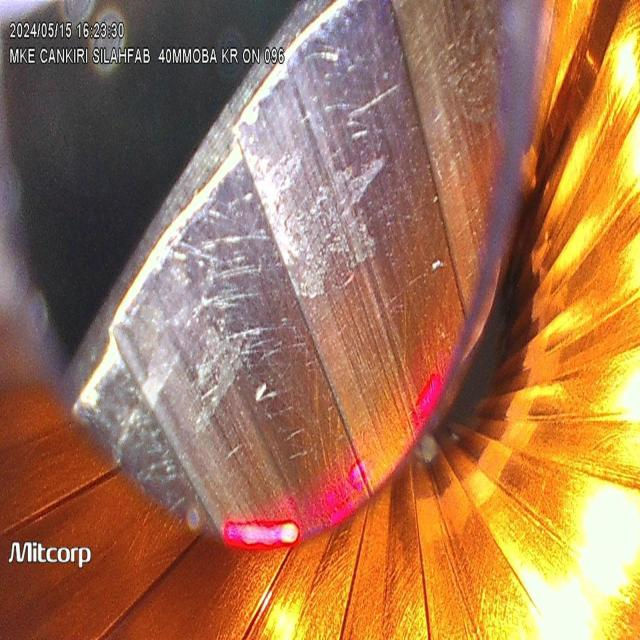hata_9.3: (118, 160, 327, 504), (231, 7, 421, 348), (72, 331, 201, 515)
